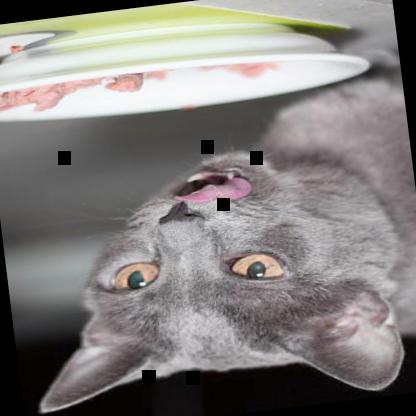cat: (2, 63, 415, 415)
